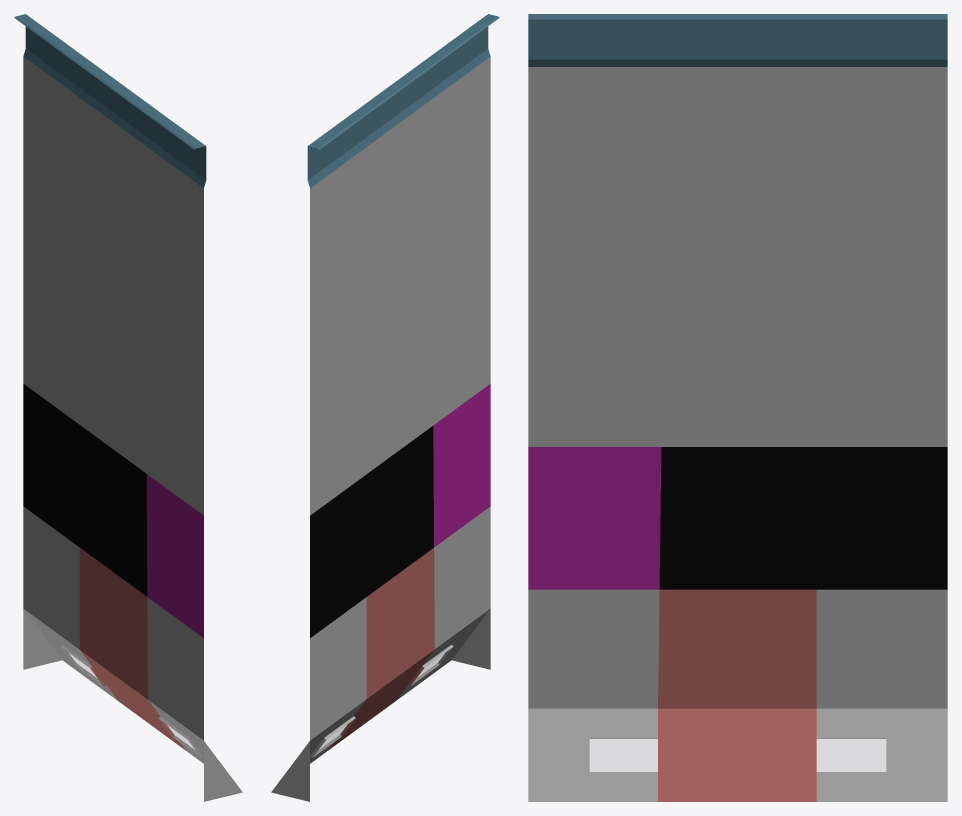
The model's file is SM_WallTile.fbx.
3 views of the same model, side by side, from view 1: azimuth 30°, elevation 25°; view 2: azimuth 150°, elevation 25°; view 3: azimuth 270°, elevation 25° (orthographic). The views are drawn at different scales.
Parts seen in each view (by area): view 1: SM_WallTile; view 2: SM_WallTile; view 3: SM_WallTile.
Boxes of the visible parts, <box> form: SM_WallTile: <box>14,14,242,801</box>; SM_WallTile: <box>271,14,499,801</box>; SM_WallTile: <box>528,14,947,801</box>.
Size of what is drawn, in the model's own units: 30.95 by 401 by 200.
